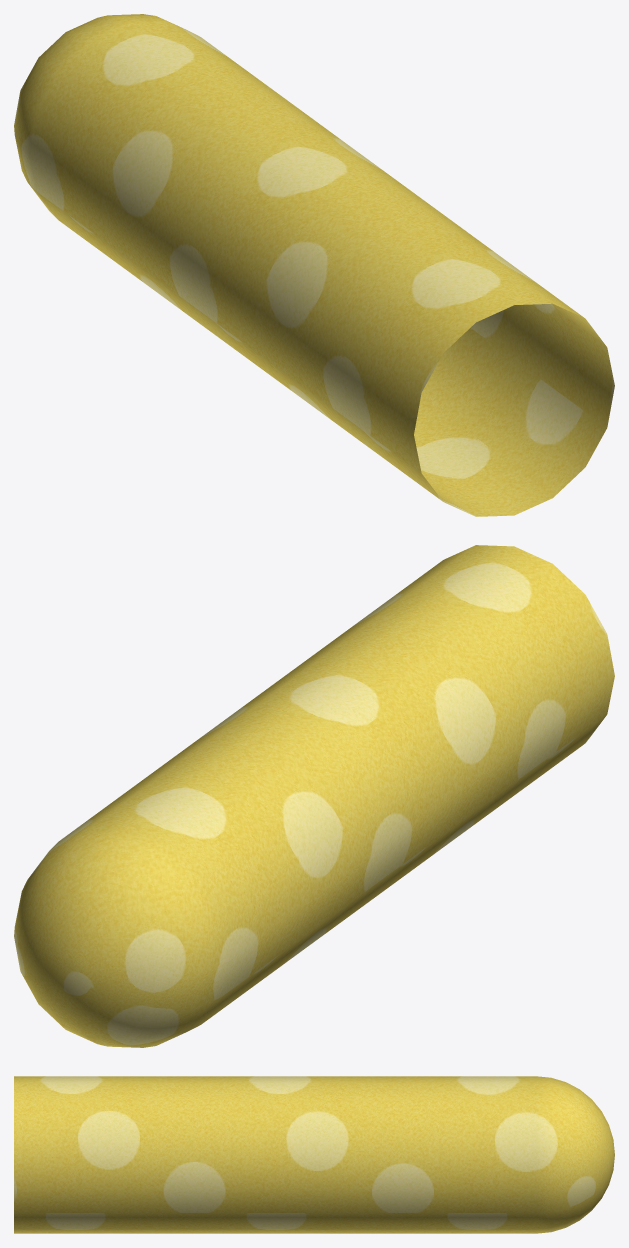
File: MushHillsXL.FBX
3 views of the same model, one above another, from view 1: azimuth 30°, elevation 25°; view 2: azimuth 150°, elevation 25°; view 3: azimuth 270°, elevation 25° (orthographic). The views are drawn at different scales.
Parts seen in each view (by area): view 1: pSphere27__Mountain01; view 2: pSphere27__Mountain01; view 3: pSphere27__Mountain01.
Part boxes in pixels (<box>): pSphere27__Mountain01: <box>14,14,614,516</box>; pSphere27__Mountain01: <box>14,545,614,1047</box>; pSphere27__Mountain01: <box>14,1076,614,1233</box>.
Size of the model in its own units: 6957 by 6957 by 26530.
